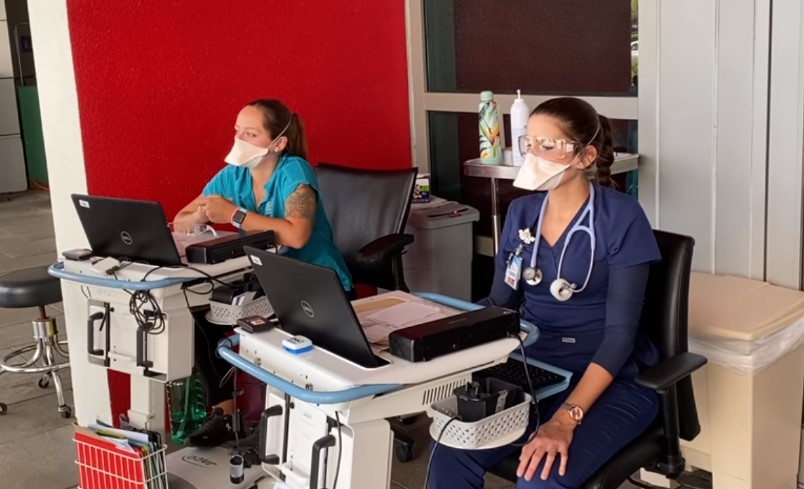face_with_mask: (512, 96, 600, 192), (225, 98, 292, 170)
